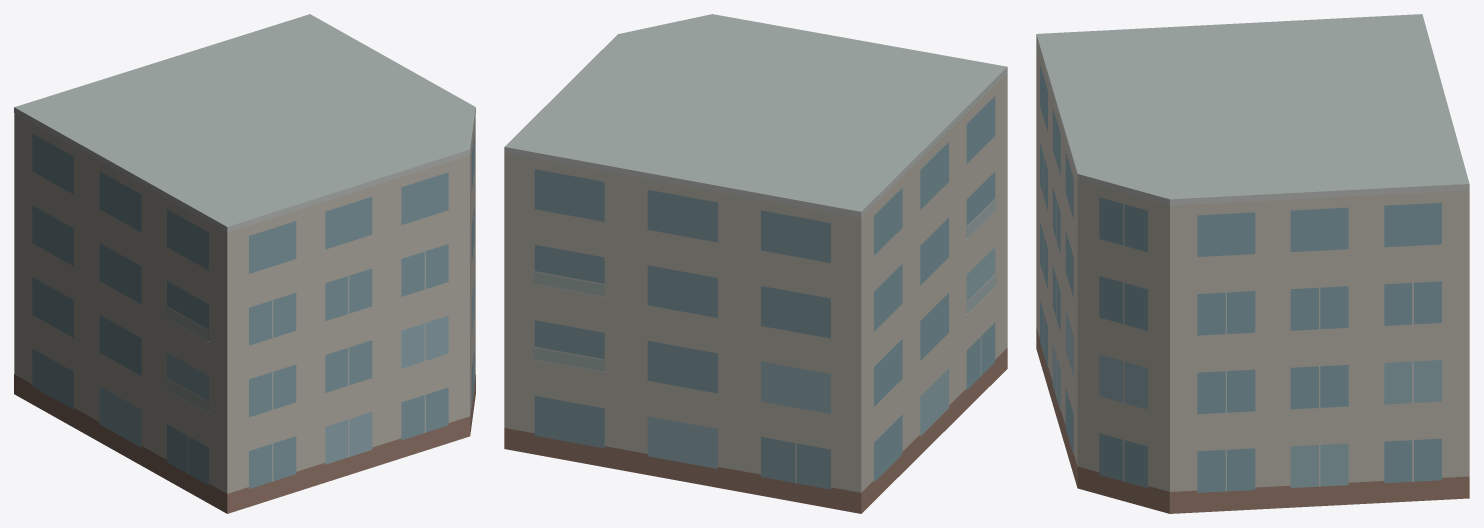
The model's file is survey-upis-32993107.glb.
3 renders of one model, left to right at view 1: azimuth 30°, elevation 25°; view 2: azimuth 150°, elevation 25°; view 3: azimuth 270°, elevation 25°, orthographic. The views are drawn at different scales.
Visible parts, largest first — view 1: survey-upis-32993107.tmp; view 2: survey-upis-32993107.tmp; view 3: survey-upis-32993107.tmp.
Part boxes in pixels (x1=…): survey-upis-32993107.tmp: x1=14, y1=14, x2=475, y2=513; survey-upis-32993107.tmp: x1=504, y1=14, x2=1007, y2=513; survey-upis-32993107.tmp: x1=1036, y1=14, x2=1469, y2=513.
Bounding box in the file's own units: 15.55 × 12.3 × 15.37.
